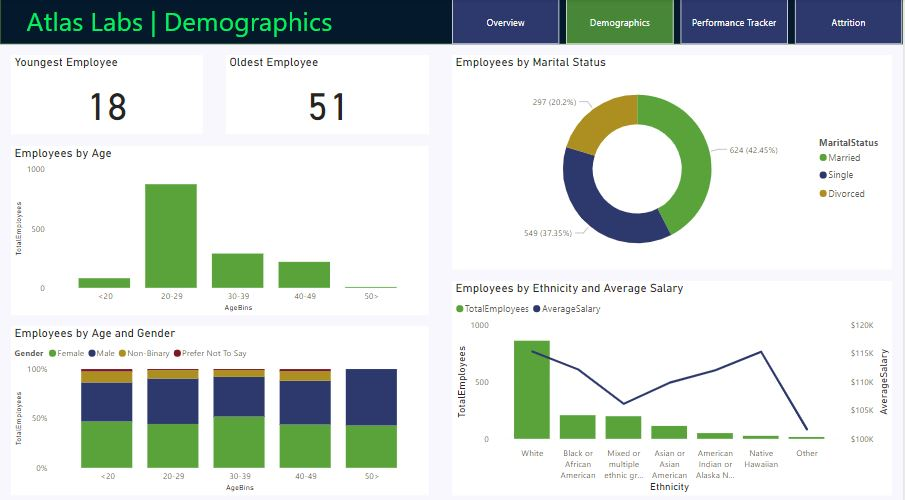

The page's visual inventory and layout, read from the dashboard file:
{"tool":"powerbi","page":{"name":"Demographics","canvas":[1280,720],"ordinal":1},"visuals":[{"type":"card","title":"Youngest Employee","fields":{"Values":["Sum(DimEmployee.Age)"]},"box":[16,80,272,112],"z":0},{"type":"card","title":"Oldest Employee","fields":{"Values":["Sum(DimEmployee.Age)"]},"box":[320,80,288,112],"z":1000},{"type":"columnChart","title":"Employees by Age","fields":{"Category":["DimEmployee.AgeBins"],"Y":["_Measures.TotalEmployees"]},"box":[16,208,592,240],"z":2000},{"type":"hundredPercentStackedColumnChart","title":"Employees by Age and Gender","fields":{"Category":["DimEmployee.AgeBins"],"Series":["DimEmployee.Gender"],"Y":["_Measures.TotalEmployees"]},"box":[16,464,592,240],"z":3000},{"type":"donutChart","title":"Employees by Marital Status","fields":{"Category":["DimEmployee.MaritalStatus"],"Y":["_Measures.TotalEmployees"]},"box":[640,80,624,304],"z":4000},{"type":"lineStackedColumnComboChart","title":"Employees by Ethnicity and Average Salary","fields":{"Category":["DimEmployee.Ethnicity"],"Y":["_Measures.TotalEmployees"],"Y2":["_Measures.AverageSalary"]},"box":[640,400,624,304],"z":5000},{"type":"shape","box":[0,0,1280,64],"z":6000},{"type":"textbox","box":[32,0,624,64],"z":7000},{"type":"pageNavigator","box":[640,0,640,64],"z":8000}]}

Visuals, with their boxes in screenshot pixels (x1, y1, x2, y2), scaled from the page's 1280x720 canvas onto the 905x500 screenshot:
"Youngest Employee" card: l=11, t=56, r=204, b=133
"Oldest Employee" card: l=226, t=56, r=430, b=133
"Employees by Age" columnChart: l=11, t=144, r=430, b=311
"Employees by Age and Gender" hundredPercentStackedColumnChart: l=11, t=322, r=430, b=489
"Employees by Marital Status" donutChart: l=452, t=56, r=894, b=267
"Employees by Ethnicity and Average Salary" lineStackedColumnComboChart: l=452, t=278, r=894, b=489
shape: l=0, t=0, r=904, b=44
textbox: l=23, t=0, r=464, b=44
pageNavigator: l=452, t=0, r=904, b=44
